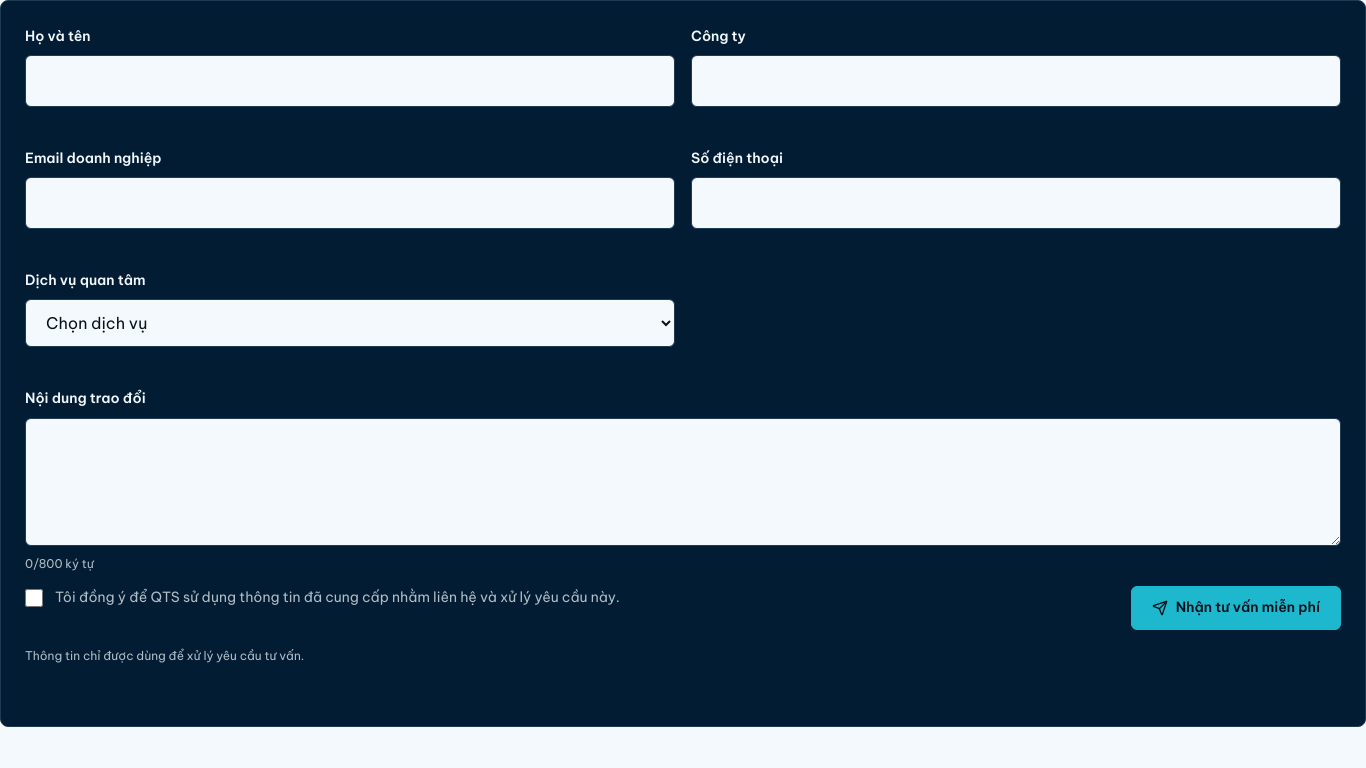
Test: LeadForm › focuses the first invalid field and does not submit incomplete data
Click the button "Nhận tư vấn miễn phí".
click(1236, 608)  # box [1131,586,1341,630]
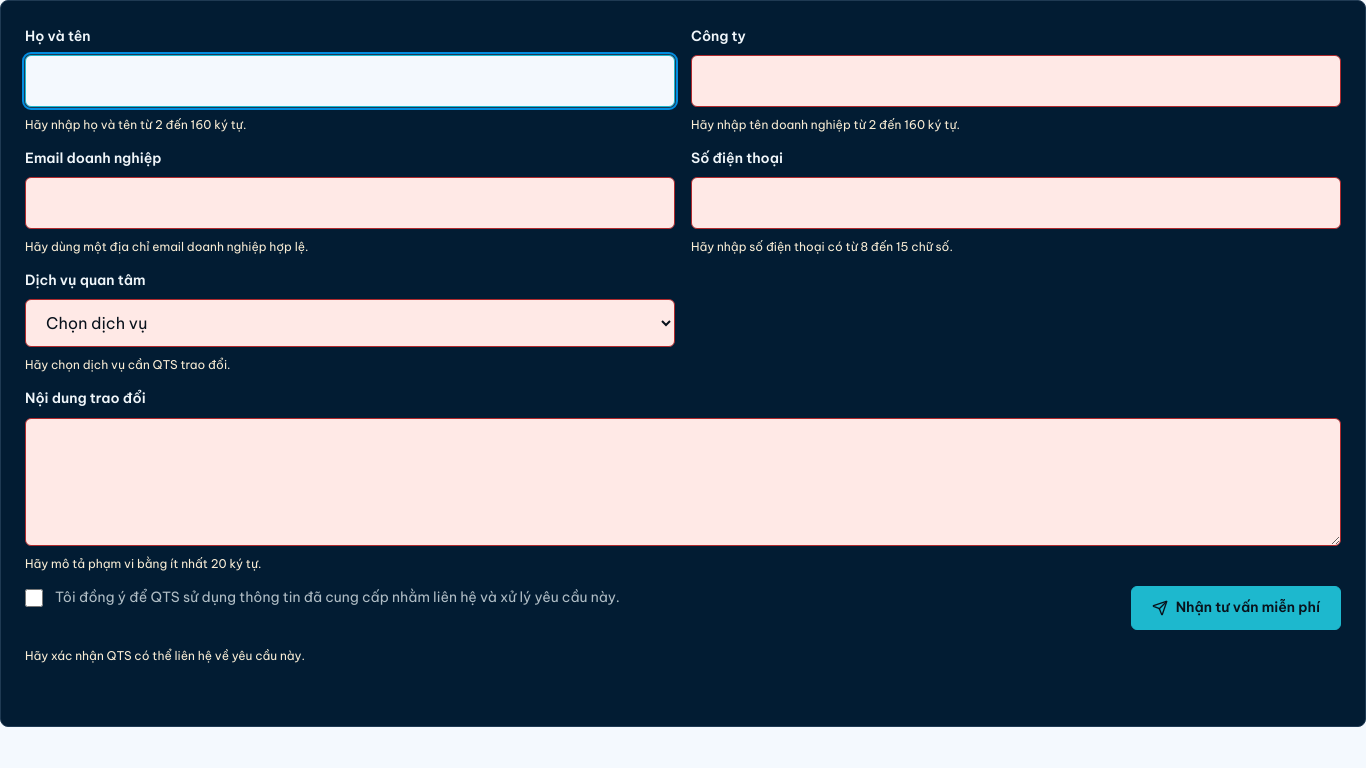
expect the text "Hãy chọn dịch vụ cần QTS trao đổi." is shown: met, box [25,357,230,372]
